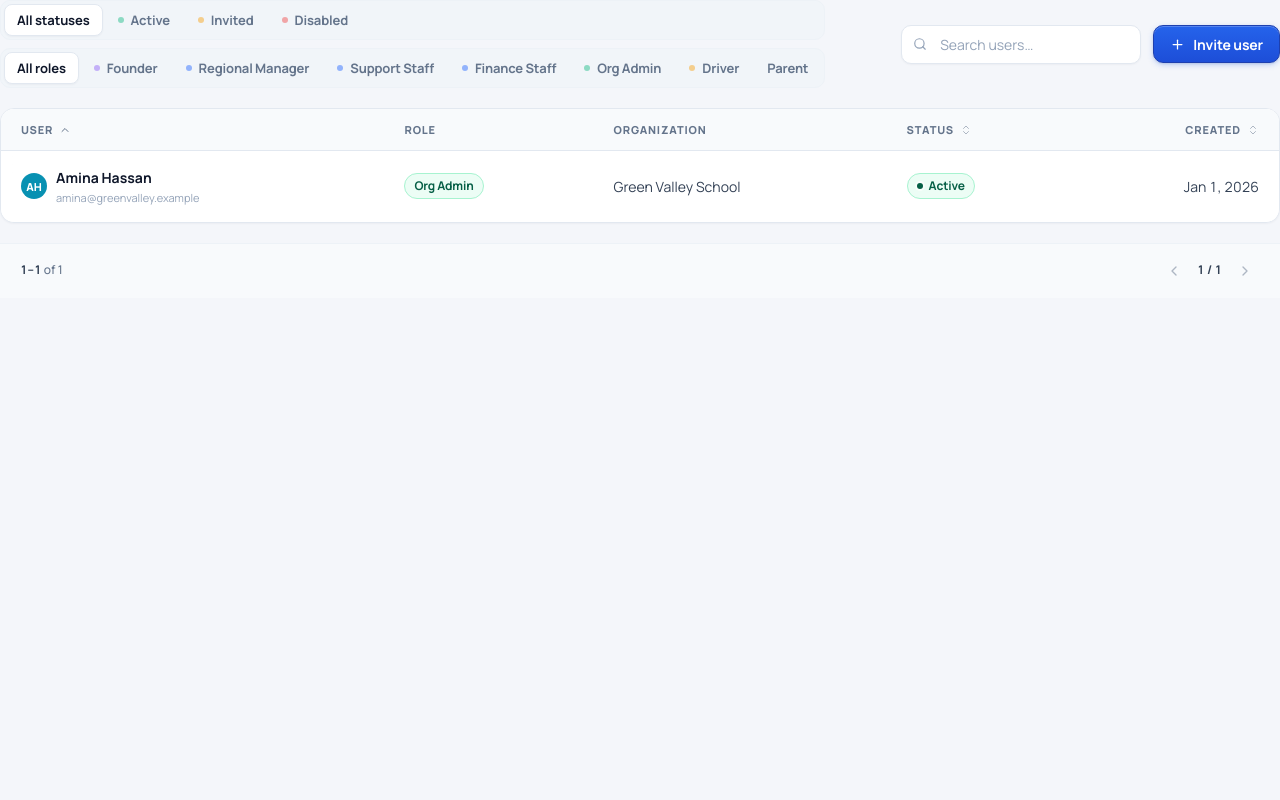
Test: UsersPage › opens the detail drawer with the user's details on row click
The image size is (1280, 800).
Click the text "Amina Hassan" at [104, 178], box [56,168,152,187]
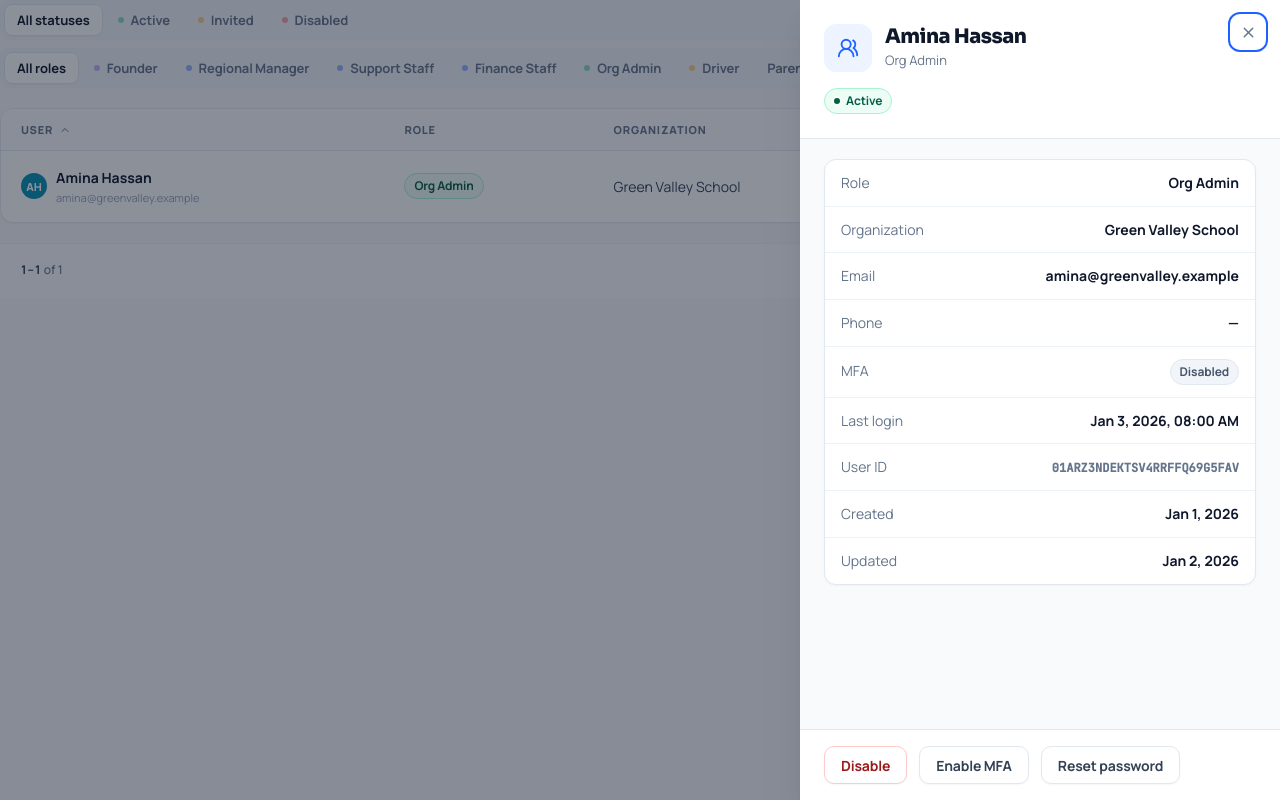
Expected: the text "Email" is shown, [841,265,875,287]
Expected: the text "amina@greenvalley.example" is shown, [1046,265,1239,287]
Expected: the text "01ARZ3NDEKTSV4RRFFQ69G5FAV" is shown, [1052,460,1239,476]
